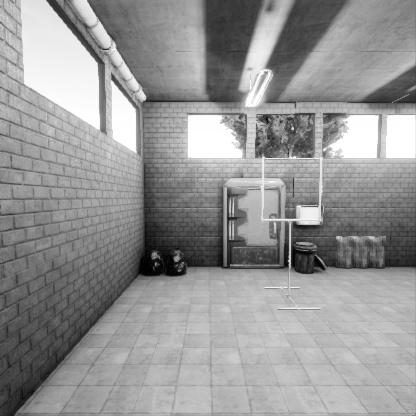gate: (261, 197, 326, 261)
